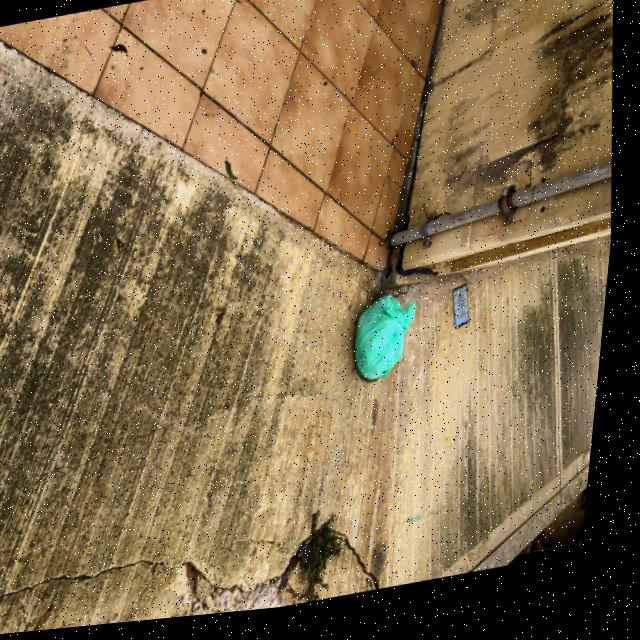Recycled Waste -Grey or Green Bag-: (348, 295, 436, 403)
